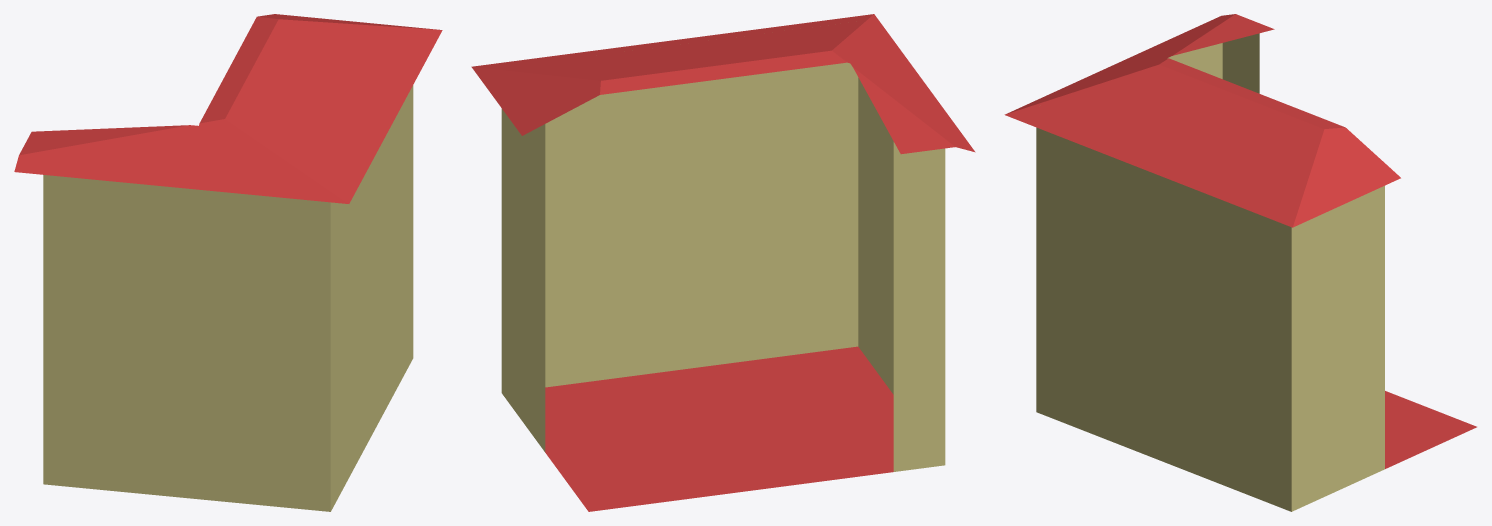
The picture shows the model from 3 angles, left to right: view 1: azimuth 30°, elevation 25°; view 2: azimuth 150°, elevation 25°; view 3: azimuth 270°, elevation 25°; orthographic projection. The views are drawn at different scales.
Bounding box in the file's own units: 11.06 × 10.44 × 8.02.
